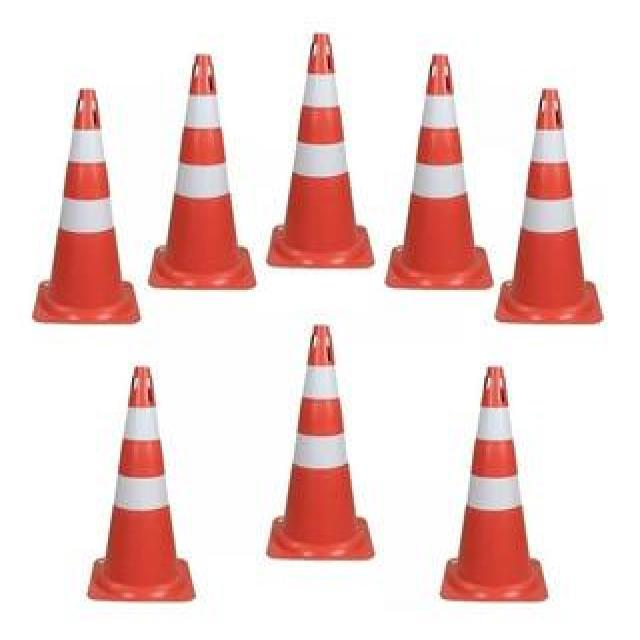cone: (24, 58, 155, 330), (256, 322, 394, 568), (77, 353, 207, 608), (437, 360, 560, 595), (380, 44, 495, 288), (498, 72, 602, 339), (274, 20, 376, 268), (156, 38, 252, 292)
